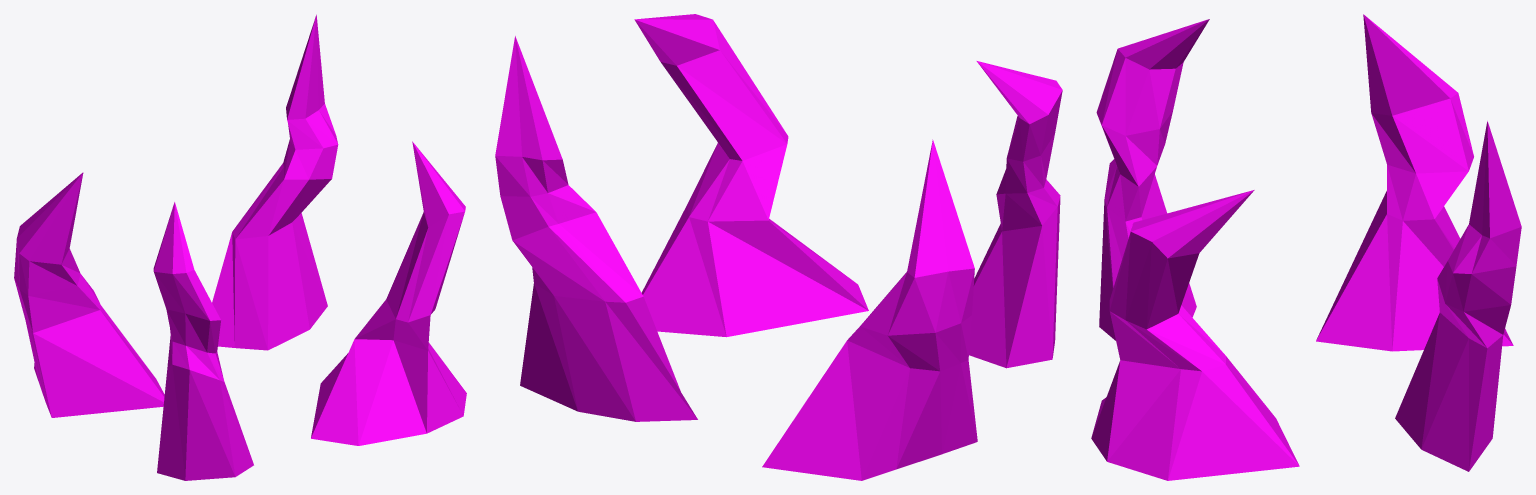
Rendered from clawspell4.obj.
The picture shows the model from 3 angles, left to right: view 1: azimuth 30°, elevation 25°; view 2: azimuth 150°, elevation 25°; view 3: azimuth 270°, elevation 25°; orthographic projection. The views are drawn at different scales.
Visible parts, largest first — view 1: clawspell4_back; view 2: clawspell4_back; view 3: clawspell4_back.
Boxes of the visible parts, x1,y1,x2,y2 form: clawspell4_back: (14,14,466,480); clawspell4_back: (495,14,1062,480); clawspell4_back: (1091,14,1521,480).
Size of the model in its own units: 1.87 by 1.47 by 1.63.
